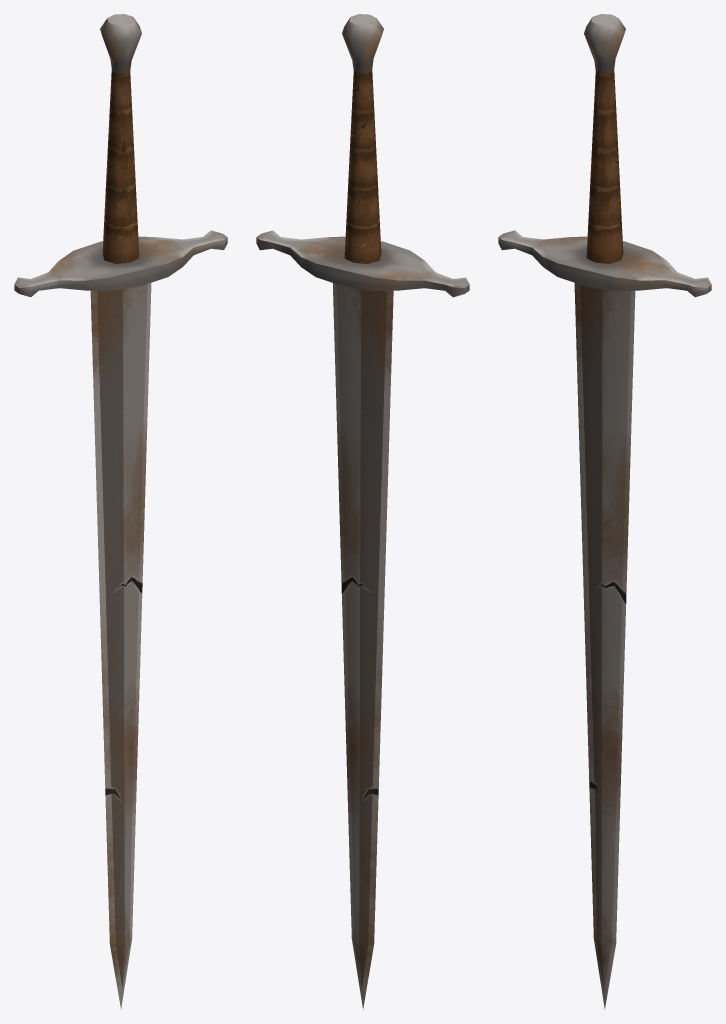
Rendered from Mimic_Mayhem_Sword.FBX.
3 views of the same model, side by side, from view 1: azimuth 30°, elevation 25°; view 2: azimuth 150°, elevation 25°; view 3: azimuth 330°, elevation 25° (orthographic).
Parts seen in each view (by area): view 1: Line003; view 2: Line003; view 3: Line003.
Part boxes in pixels (bbox=[...]): Line003: bbox=[14, 14, 227, 1009]; Line003: bbox=[256, 14, 469, 1009]; Line003: bbox=[498, 14, 711, 1009].
Size of the model in its own units: 6.36 by 28.86 by 2.08.
